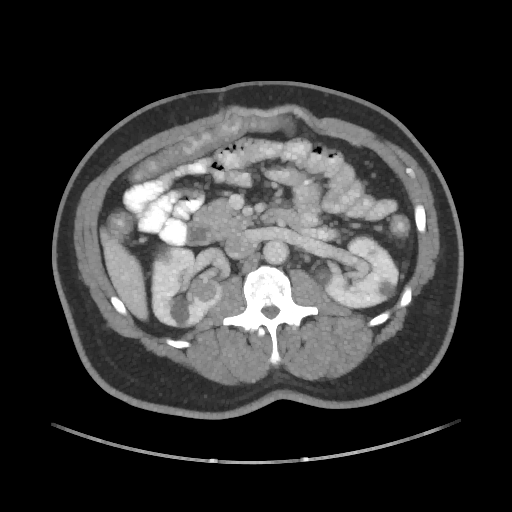Lesion: (194, 280, 222, 303)
